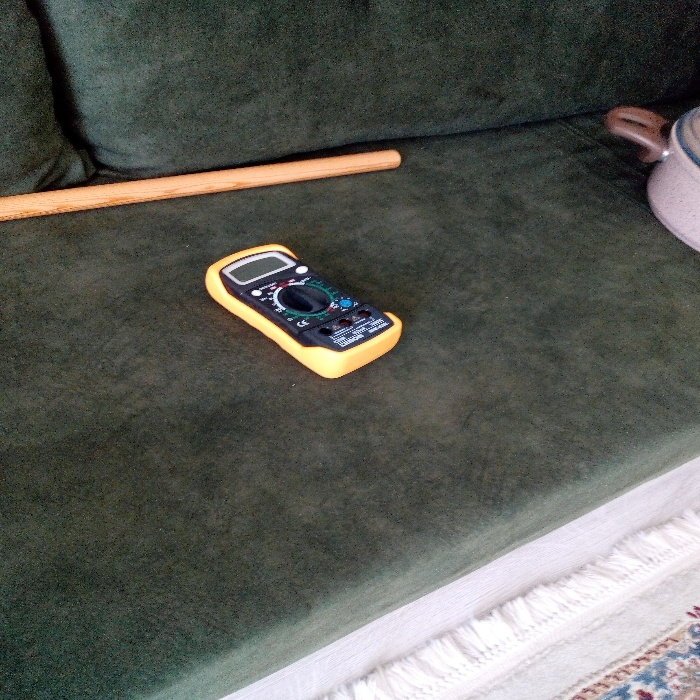multimetre: (193, 222, 414, 377)
